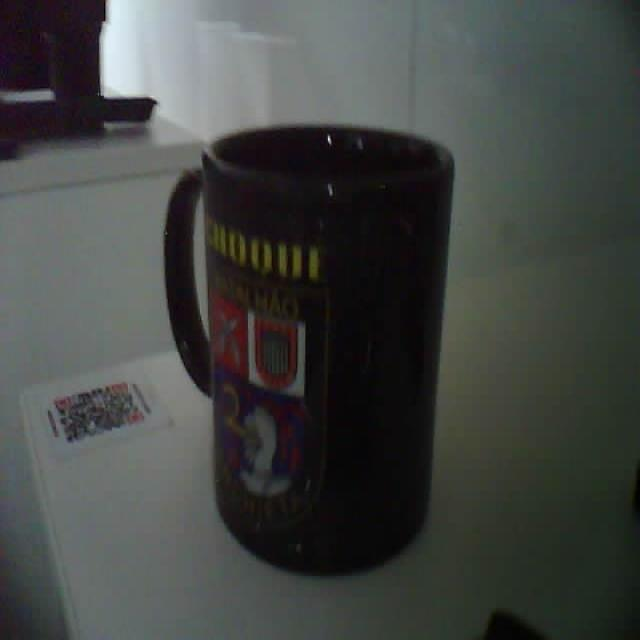caneca: (165, 124, 454, 572)
